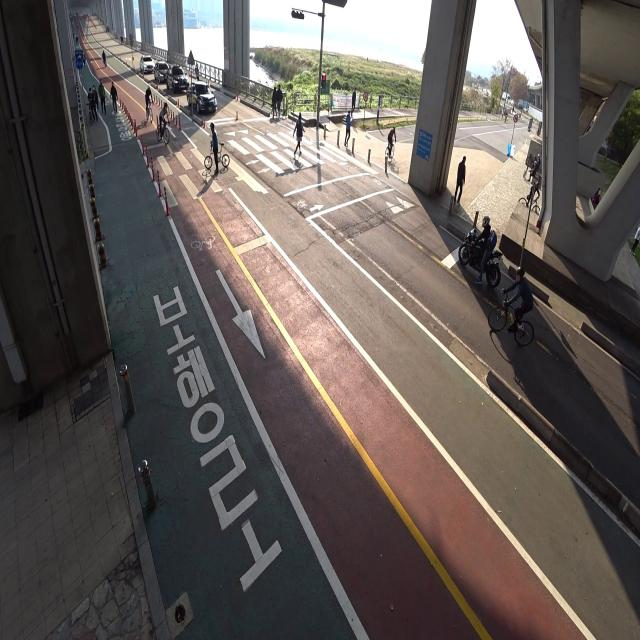Car: (184, 78, 222, 118), (164, 62, 191, 94), (152, 57, 172, 88), (140, 49, 156, 76)
Motorcycle: (458, 214, 503, 288)
